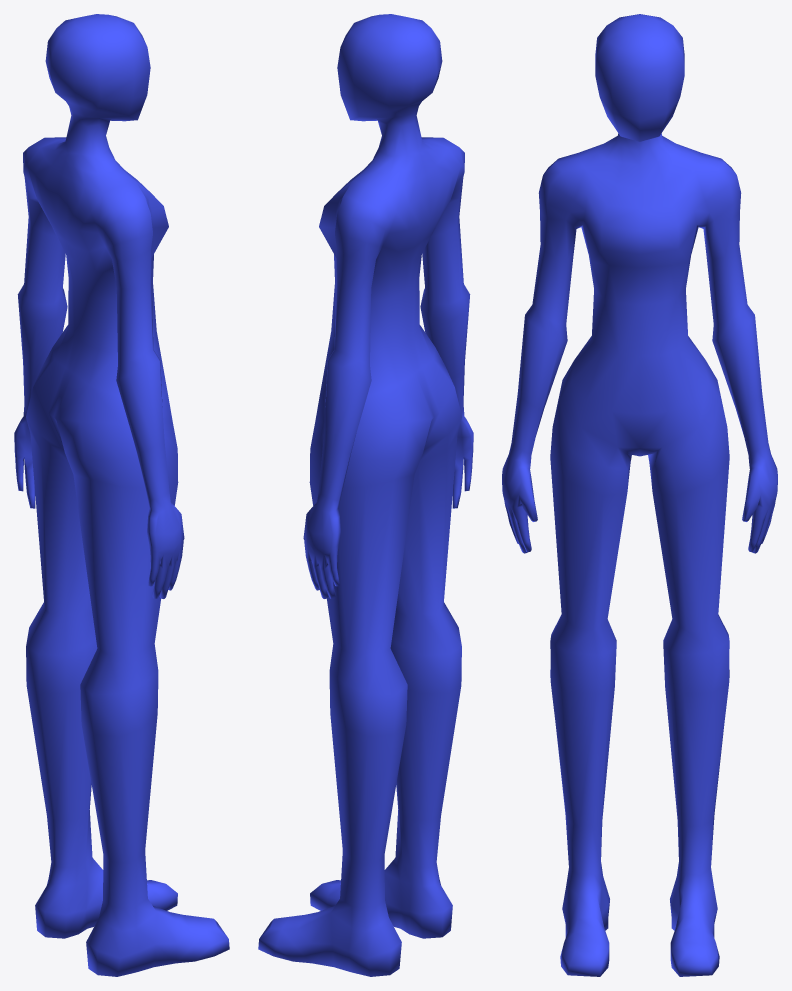
The model's file is Protagonist.fbx.
3 views of the same model, side by side, from view 1: azimuth 30°, elevation 25°; view 2: azimuth 150°, elevation 25°; view 3: azimuth 270°, elevation 25° (orthographic). The views are drawn at different scales.
Visible parts, largest first — view 1: Protagonist; view 2: Protagonist; view 3: Protagonist.
Part boxes in pixels (left/top/right/bottom): Protagonist: left=14, top=14, right=229, bottom=976; Protagonist: left=258, top=14, right=473, bottom=976; Protagonist: left=502, top=14, right=777, bottom=976.
Size of the model in its own units: 29.47 by 177 by 48.86.
